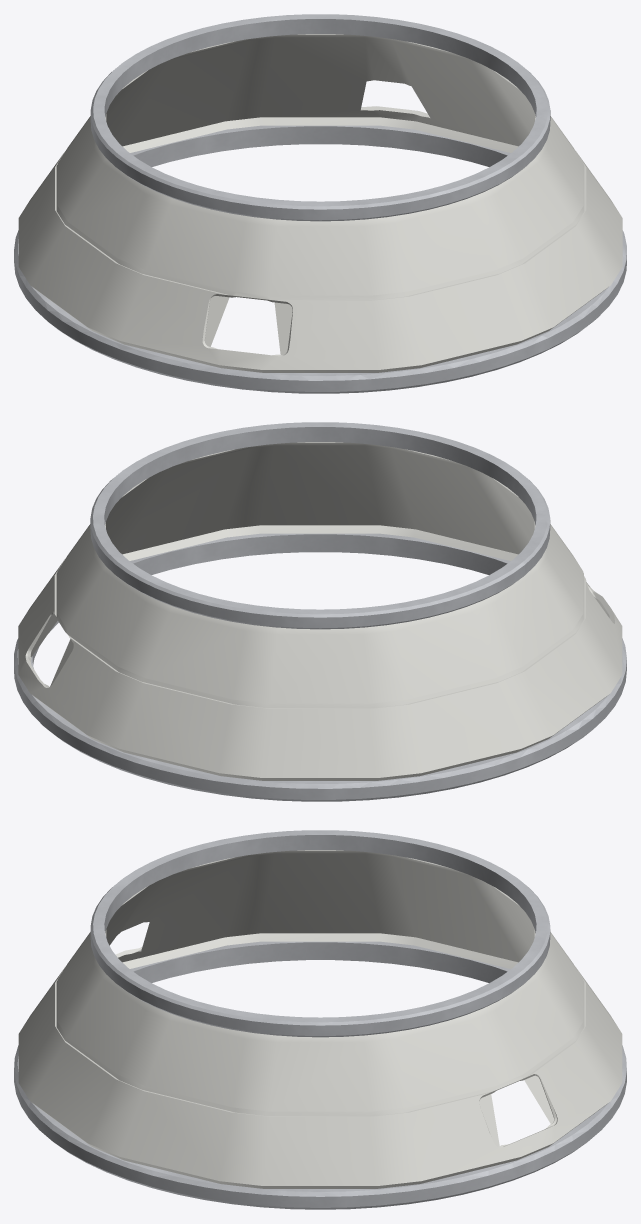
Rendered from ax_struct_03_adapter_l_xl.glb.
3 renders of one model, top to bottom at view 1: azimuth 30°, elevation 25°; view 2: azimuth 150°, elevation 25°; view 3: azimuth 270°, elevation 25°, orthographic.
Parts seen in each view (by area): view 1: adapter_shell, interface_rings; view 2: adapter_shell, interface_rings; view 3: adapter_shell, interface_rings.
Part boxes in pixels (x1,y1,x2,y2): adapter_shell: (18,34,622,372); interface_rings: (14,14,626,393); adapter_shell: (18,442,622,780); interface_rings: (14,422,626,801); adapter_shell: (18,850,622,1188); interface_rings: (14,830,626,1209).
Size of the model in its own units: 5 by 1.4 by 5.
2 materials, 1 textured.
